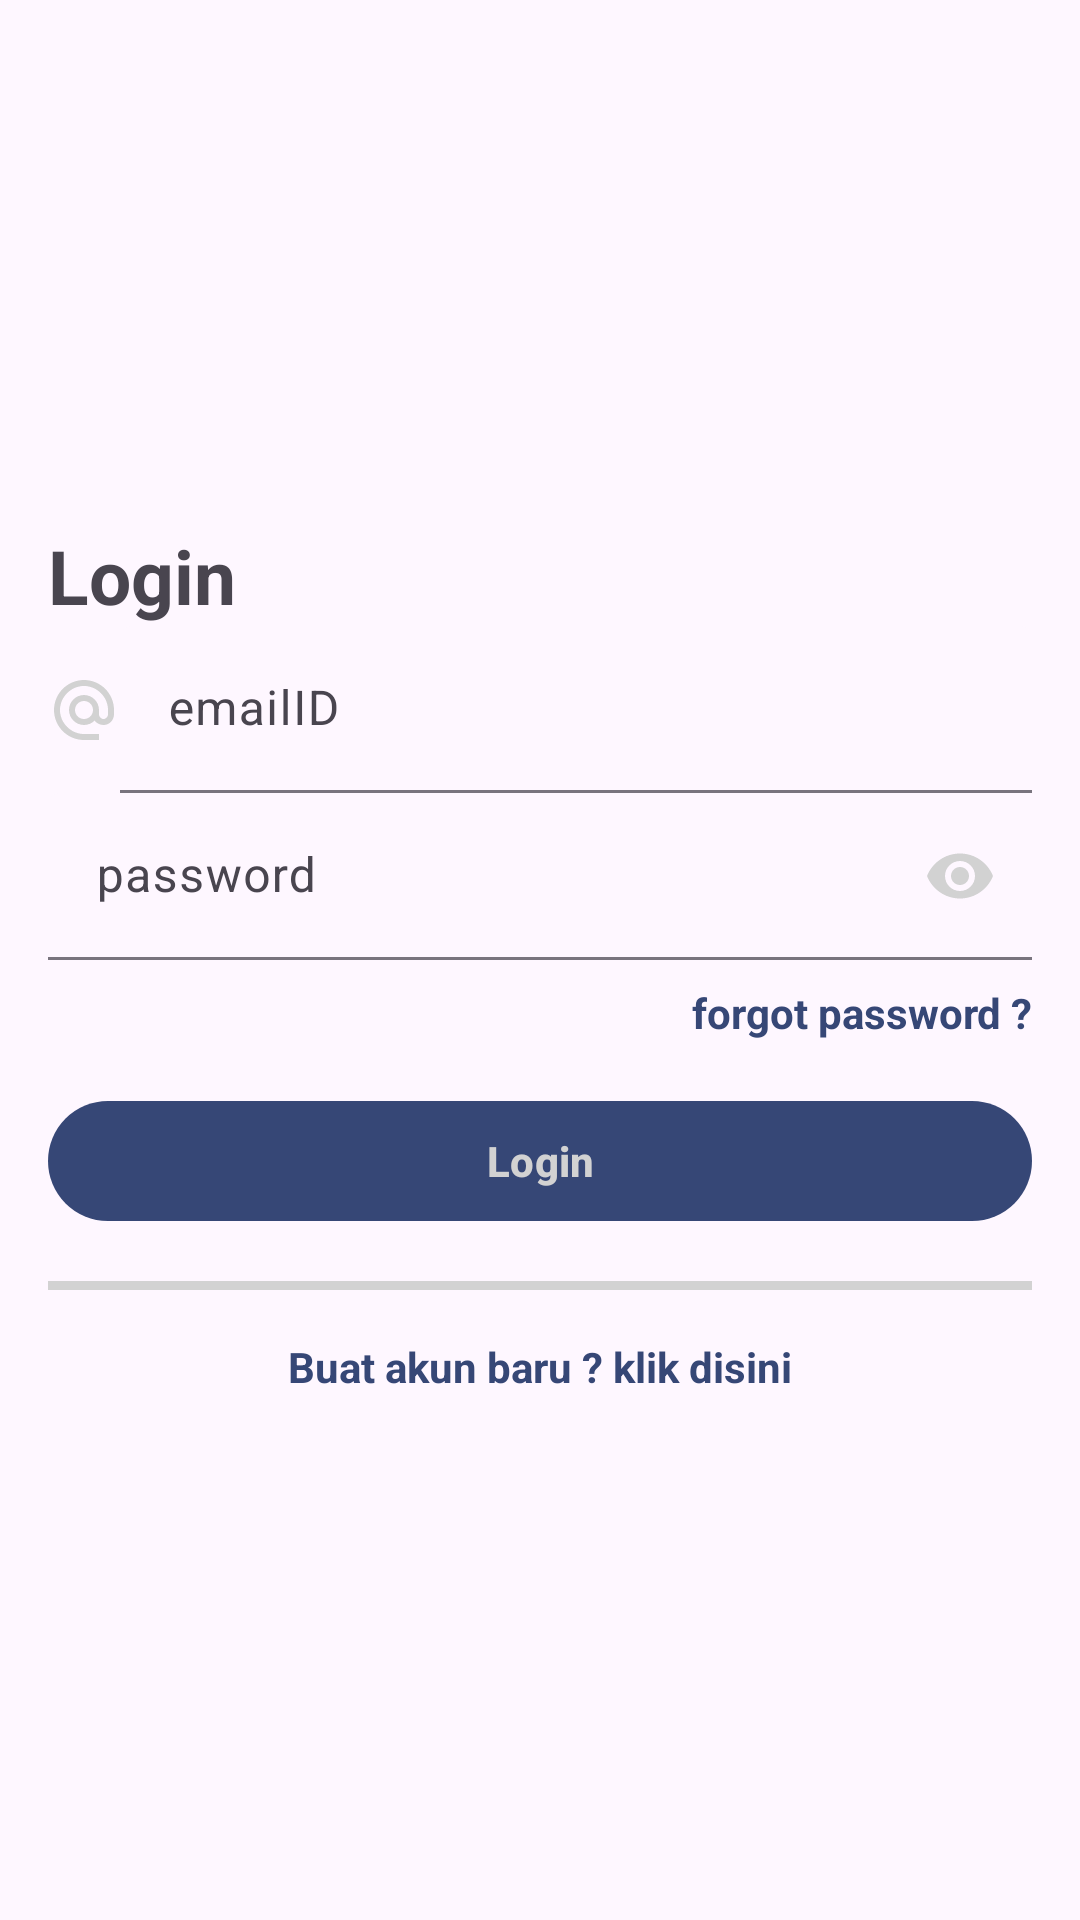

Named icons in this screenshot (1080px×1920px) and their centers, [x,y]:
alternate email: [84,710]
